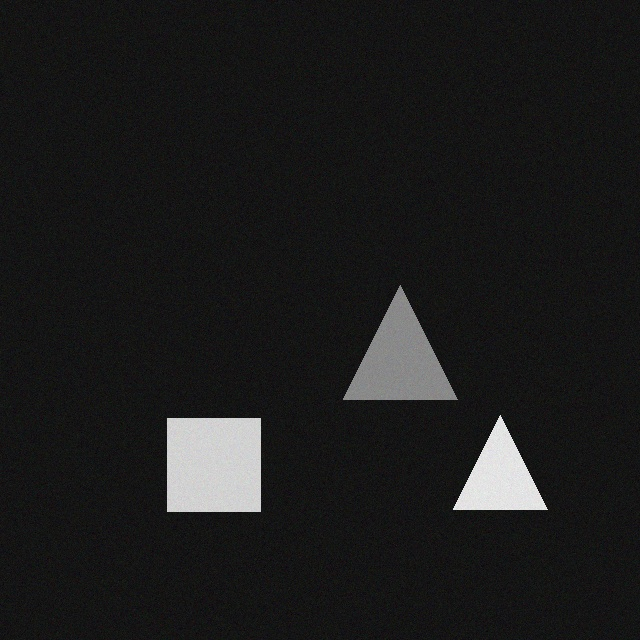square: (179, 416, 272, 509)
triangle: (355, 283, 469, 397), (465, 413, 559, 507)
